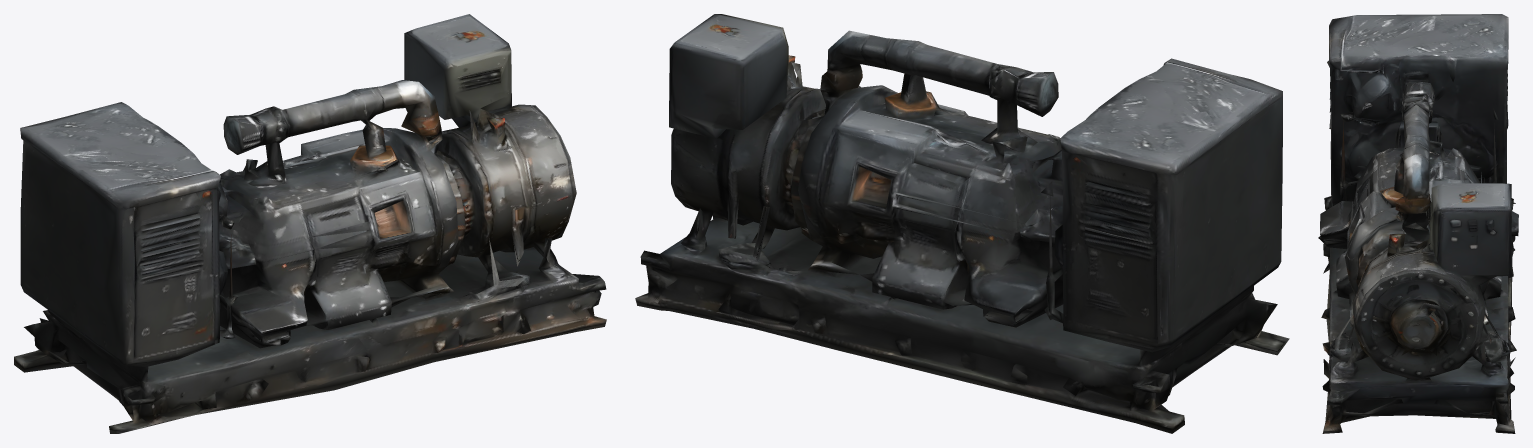
The model's file is xd_generator.glb.
The picture shows the model from 3 angles, left to right: view 1: azimuth 30°, elevation 25°; view 2: azimuth 150°, elevation 25°; view 3: azimuth 270°, elevation 25°; orthographic projection. The views are drawn at different scales.
Visible parts, largest first — view 1: tripo_node_d6e94d6b-c469-43ab-aa90-6aceb0738a78; view 2: tripo_node_d6e94d6b-c469-43ab-aa90-6aceb0738a78; view 3: tripo_node_d6e94d6b-c469-43ab-aa90-6aceb0738a78.
Part boxes in pixels (left/top/right/bottom): tripo_node_d6e94d6b-c469-43ab-aa90-6aceb0738a78: left=14, top=14, right=606, bottom=433; tripo_node_d6e94d6b-c469-43ab-aa90-6aceb0738a78: left=635, top=14, right=1289, bottom=433; tripo_node_d6e94d6b-c469-43ab-aa90-6aceb0738a78: left=1318, top=14, right=1518, bottom=433.
Bounding box in the file's own units: 1 × 0.4757 × 0.4009.
Materials: 1 (1 with a texture image).
